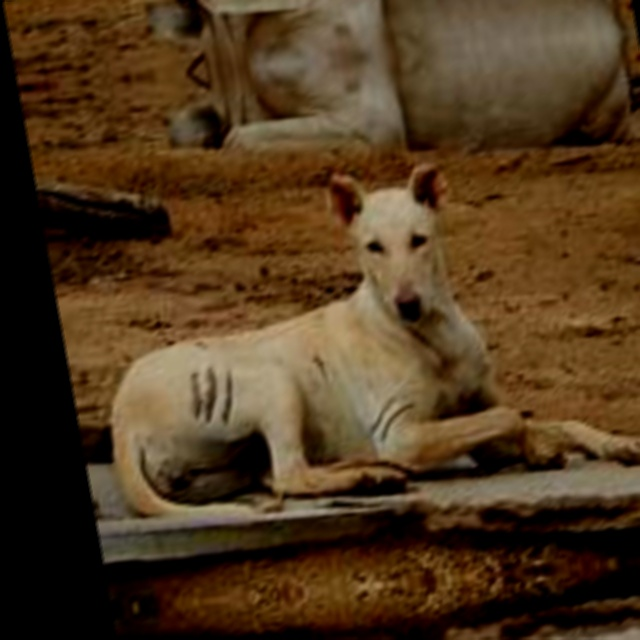dog: (49, 156, 557, 581), (128, 595, 579, 640)
